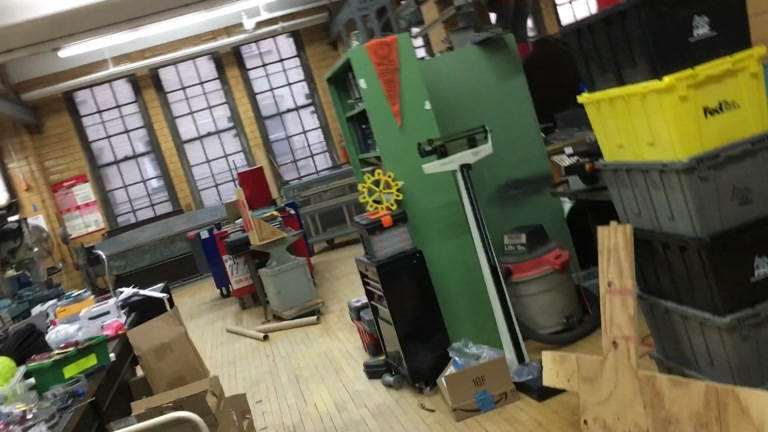gear: (357, 167, 402, 215)
